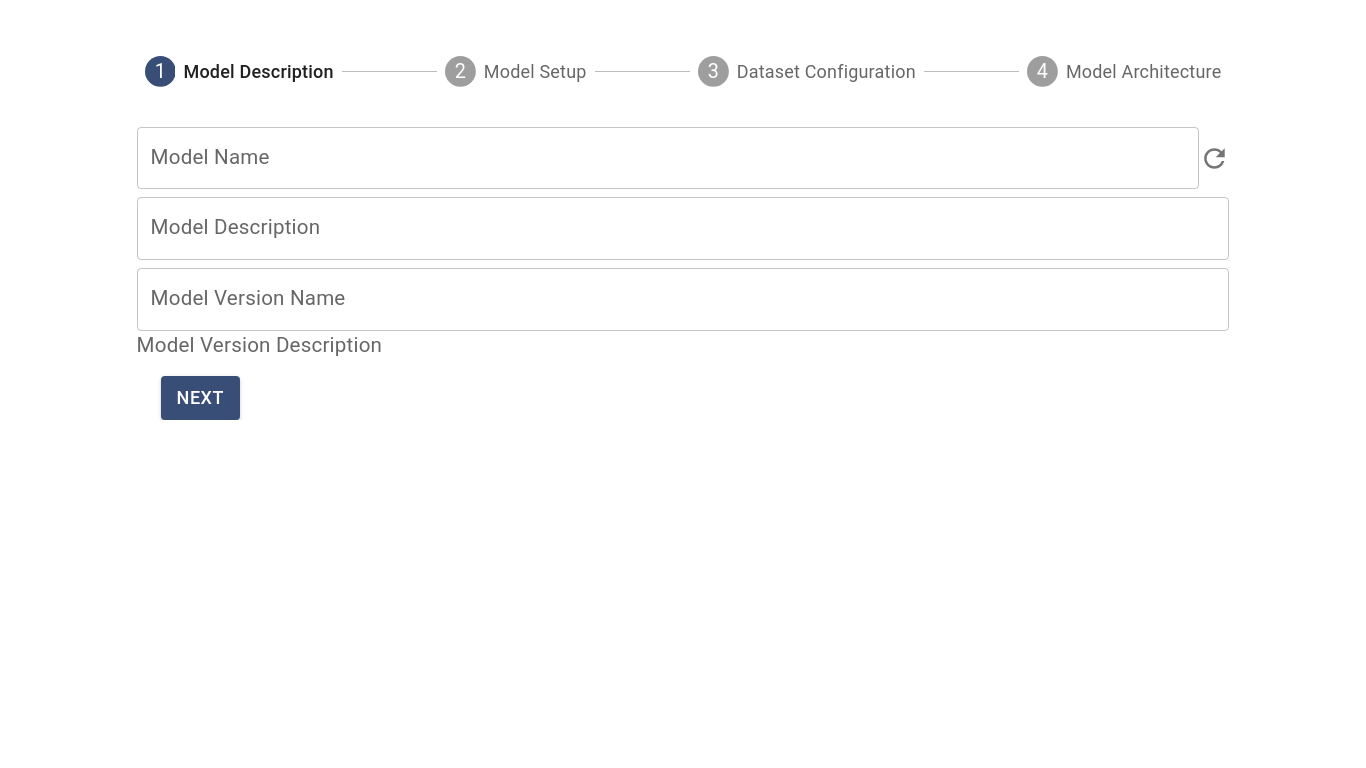
Scenario: ModelForm.cy.tsx › Validation on required fields (model name and model version name)
Click the button with test id "next" at (201, 398), box [161, 376, 240, 420]
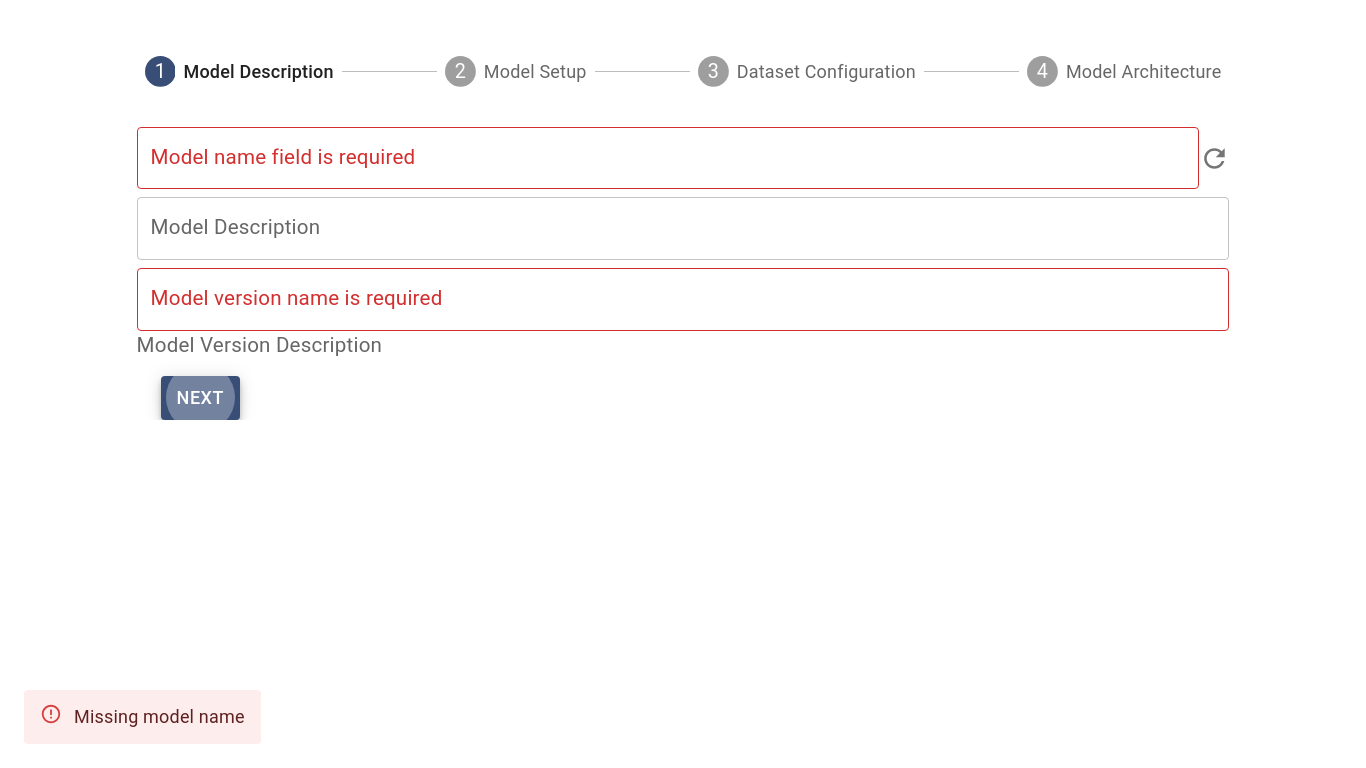
Expected: the text "Missing model name" is shown, [74, 706, 245, 727]
